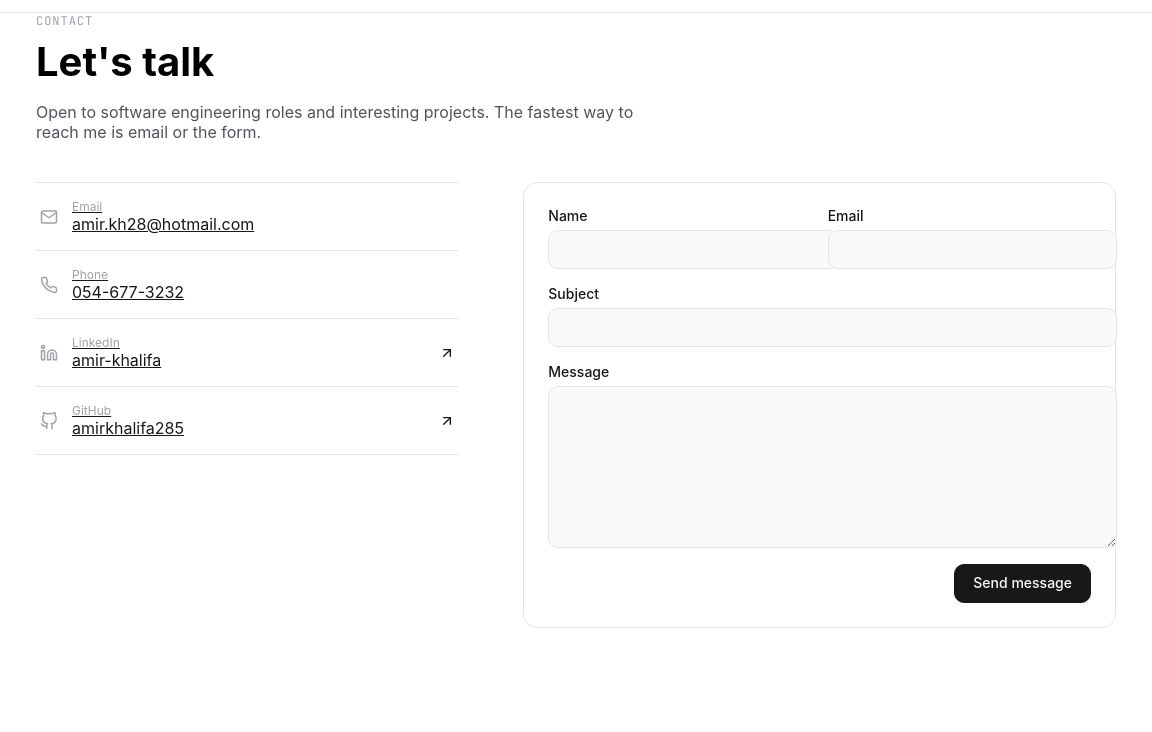
Test: shows the API error message on failure
This screenshot has width=1152, height=732.
Type "Jane" into the field labelled "Name" at (693, 250), box [548,230,838,269]
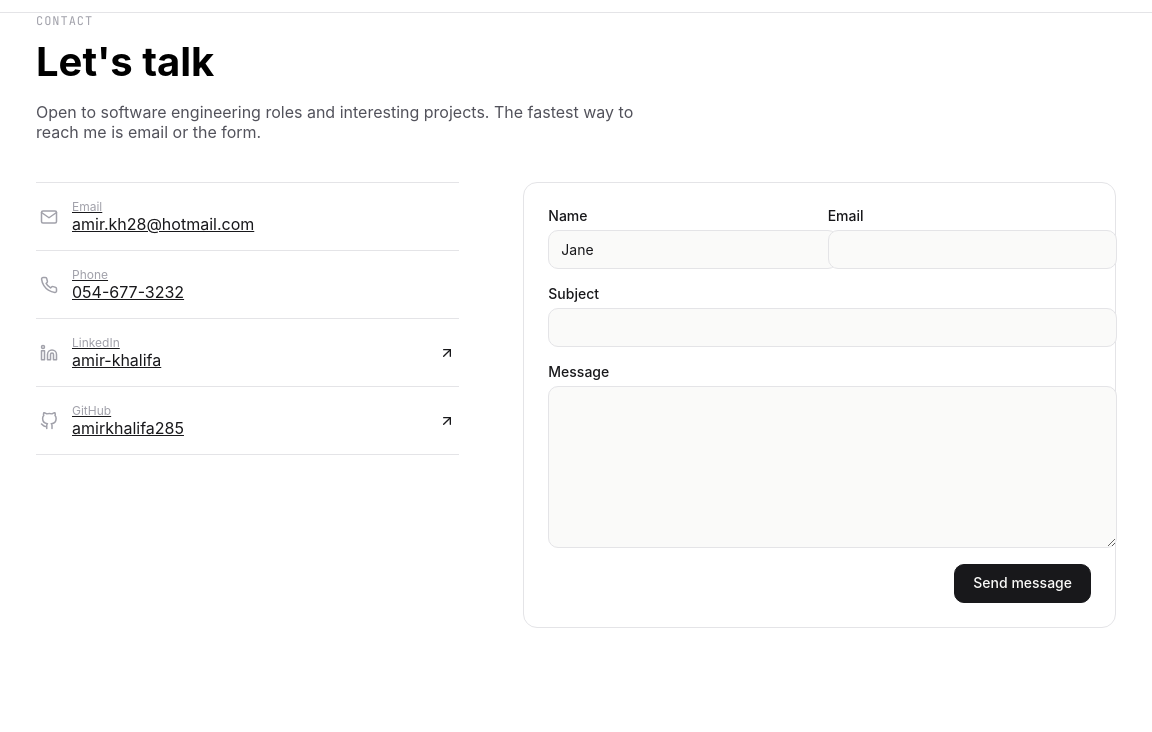
Type "jane@example.com" into the field labelled "Email" at (972, 250), box [828,230,1117,269]
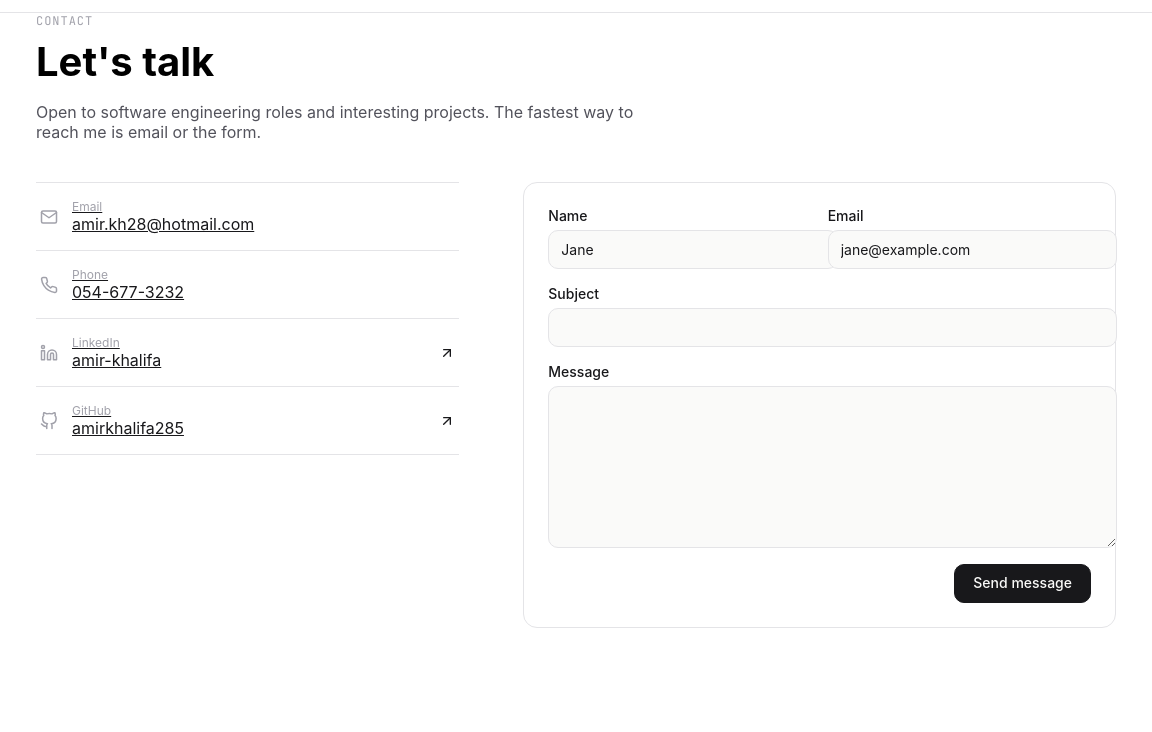
Type "Hello" into the field labelled "Subject" at (833, 328), box [548,308,1117,347]
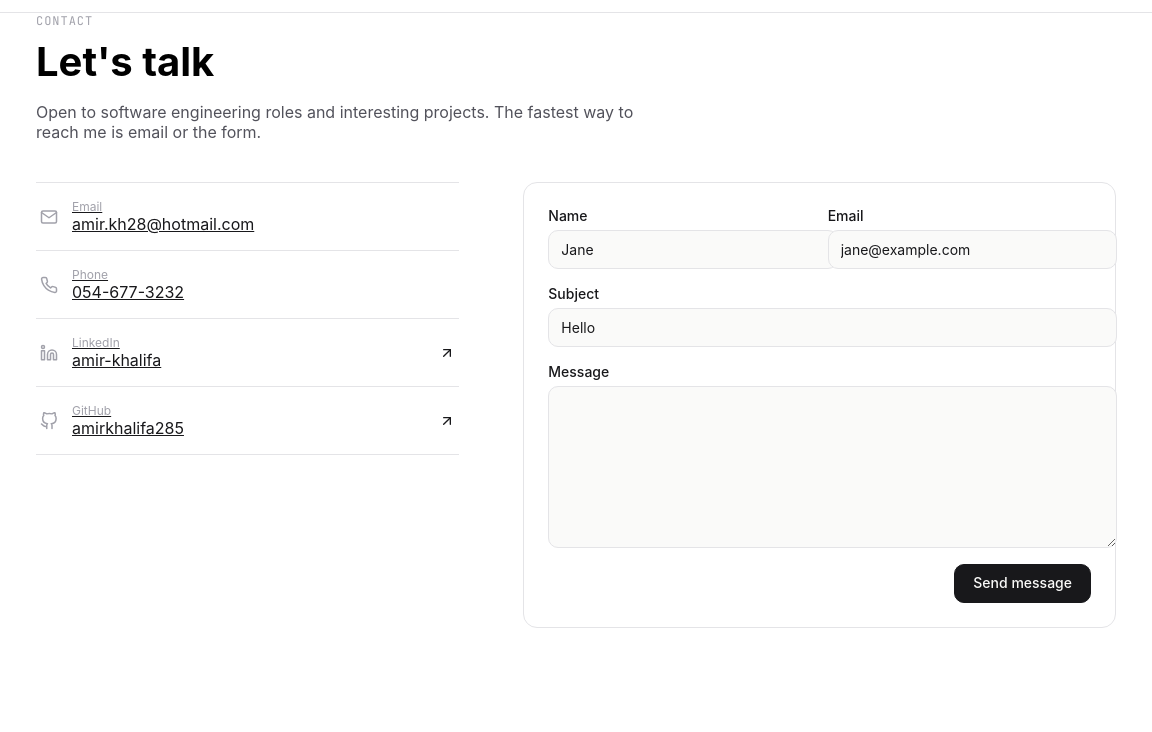
Type "This is a test message." into the text box labelled "Message" at (833, 467), box [548,386,1117,548]
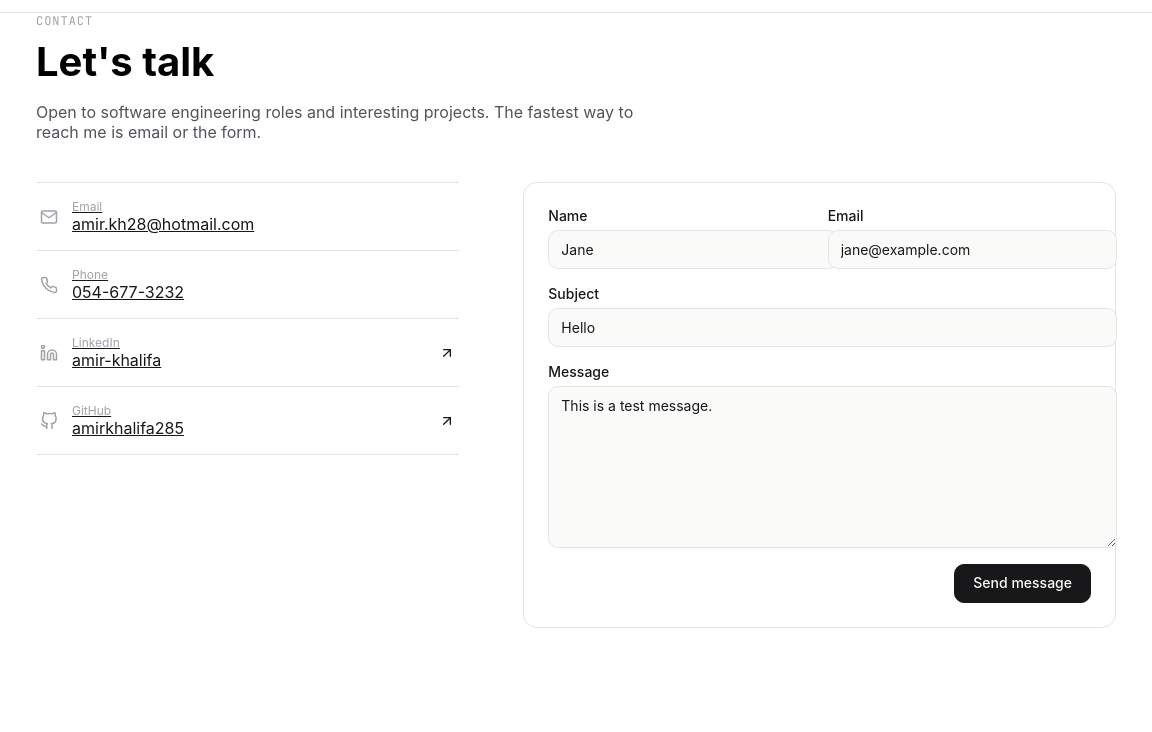
Click the button "Send message" at (1023, 583), box [954,564,1091,603]
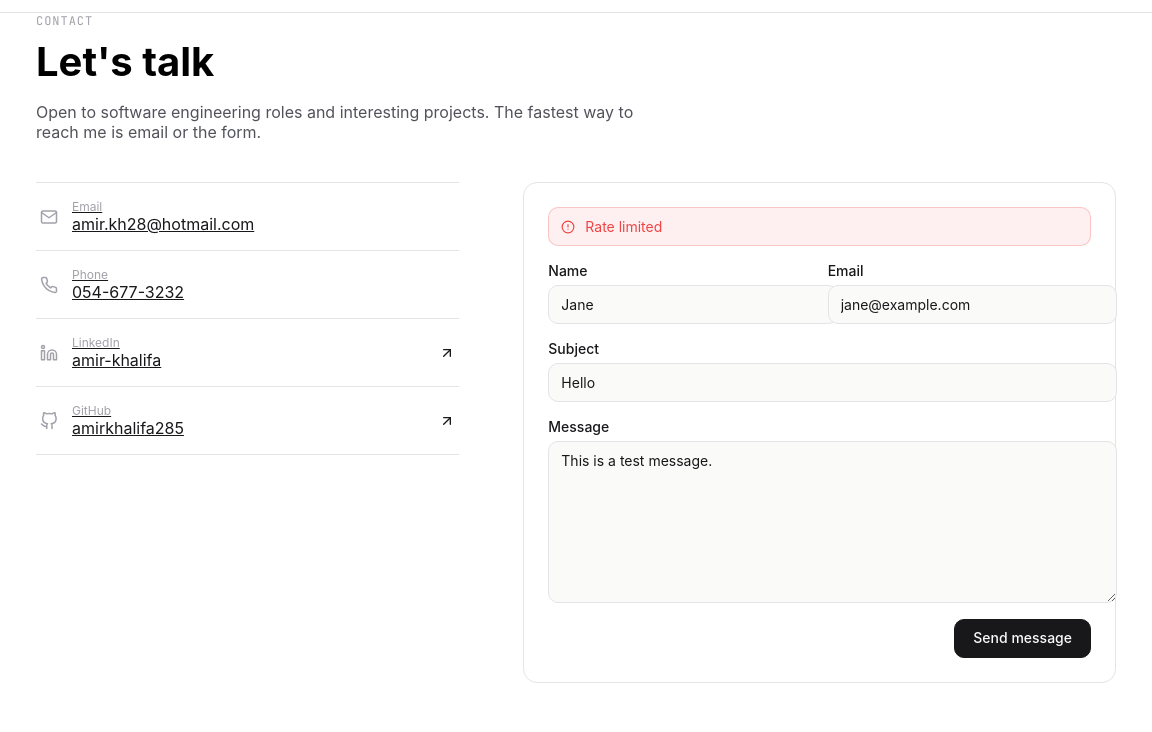
Result: the message reads "Rate limited" at [585,218,662,235]
